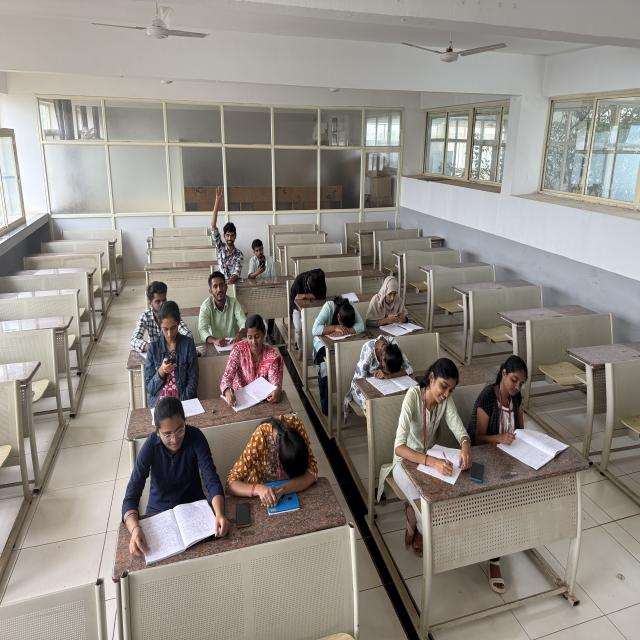Hand Rising: (206, 183, 249, 272)
Reading: (120, 395, 228, 558)
Sleeping: (236, 412, 318, 503), (349, 333, 414, 385), (314, 296, 368, 340), (288, 260, 332, 304)
Using Phone: (135, 298, 204, 396), (365, 272, 419, 328), (244, 235, 278, 280)
Writing: (397, 357, 479, 482), (475, 351, 563, 456), (218, 314, 287, 411)
